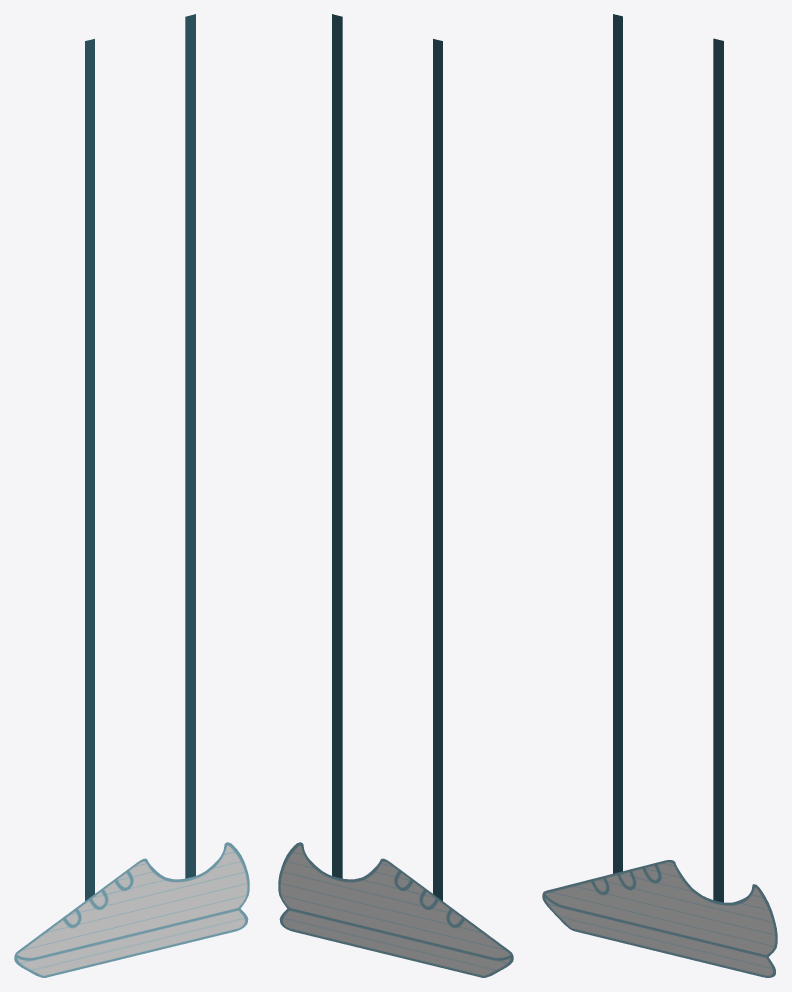
The model's file is Foot.glb.
The picture shows the model from 3 angles, left to right: view 1: azimuth 30°, elevation 25°; view 2: azimuth 150°, elevation 25°; view 3: azimuth 330°, elevation 25°; orthographic projection.
Visible parts, largest first — view 1: Plane.001; view 2: Plane.001; view 3: Plane.001.
Boxes of the visible parts, <box> form: Plane.001: <box>14,14,249,977</box>; Plane.001: <box>278,14,513,977</box>; Plane.001: <box>542,14,777,977</box>.
Bounding box in the file's own units: 8.92 × 33.52 × 0.00438.
Materials: 1 (1 with a texture image).
